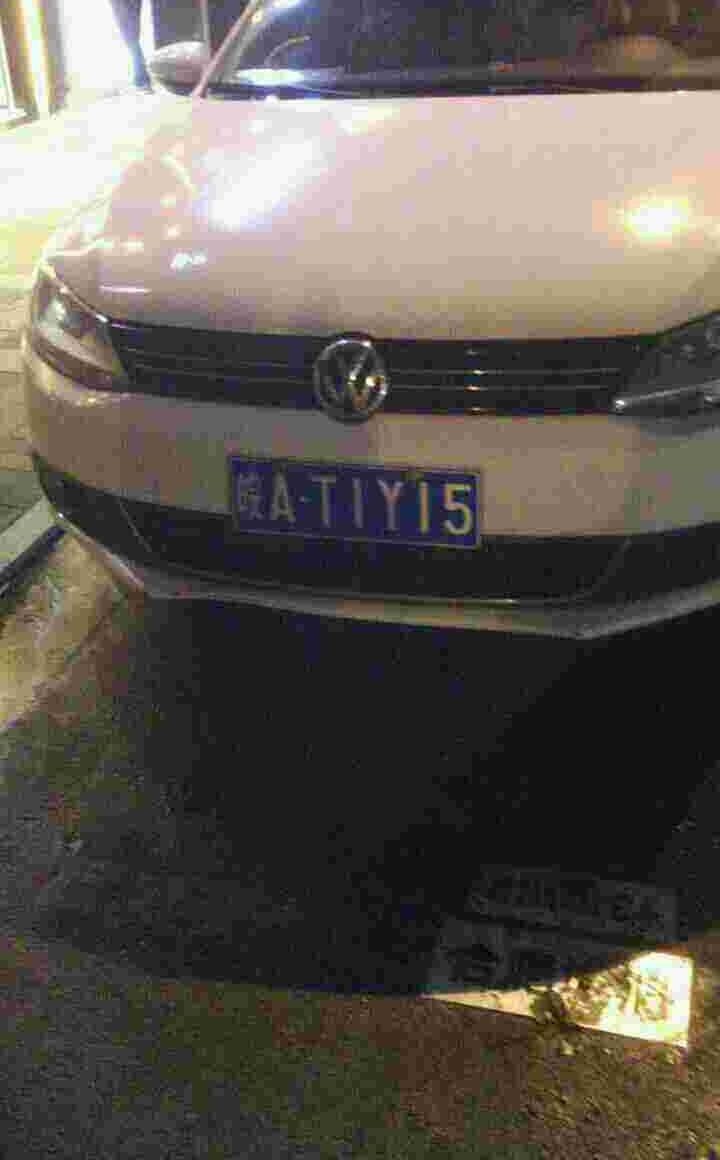license_plate: (228, 459, 480, 549)
